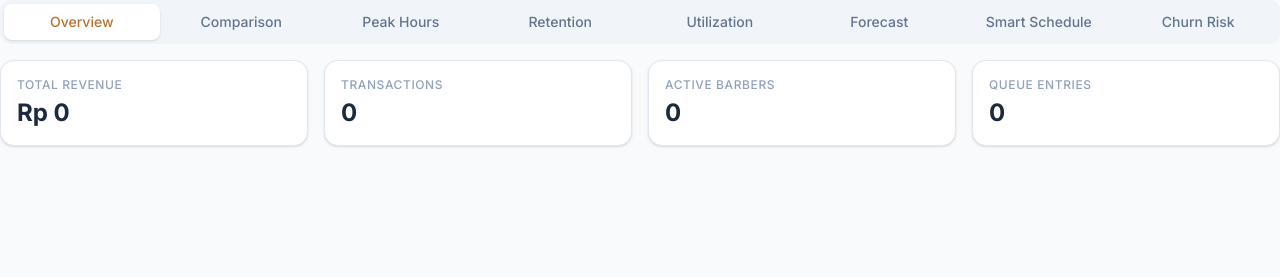
it: analytics feature › Utilization tab shows overall rate and barber rows
What coordinates should you click on to do the following:
click the button "Utilization"
I would click on:
 (720, 22)
Its box is [642,4,798,40].
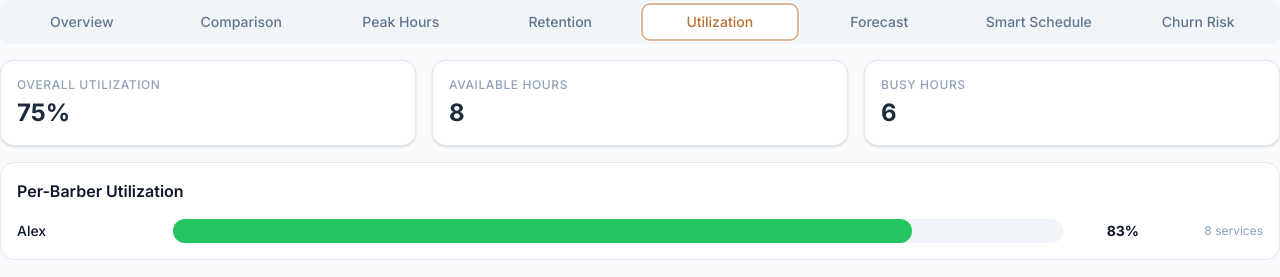
Result: the text "Overall Utilization" is shown at [17,77,160,92]
Result: the text "75%" is shown at [17,98,70,127]
Result: the text "Alex" is shown at [17,222,46,239]
